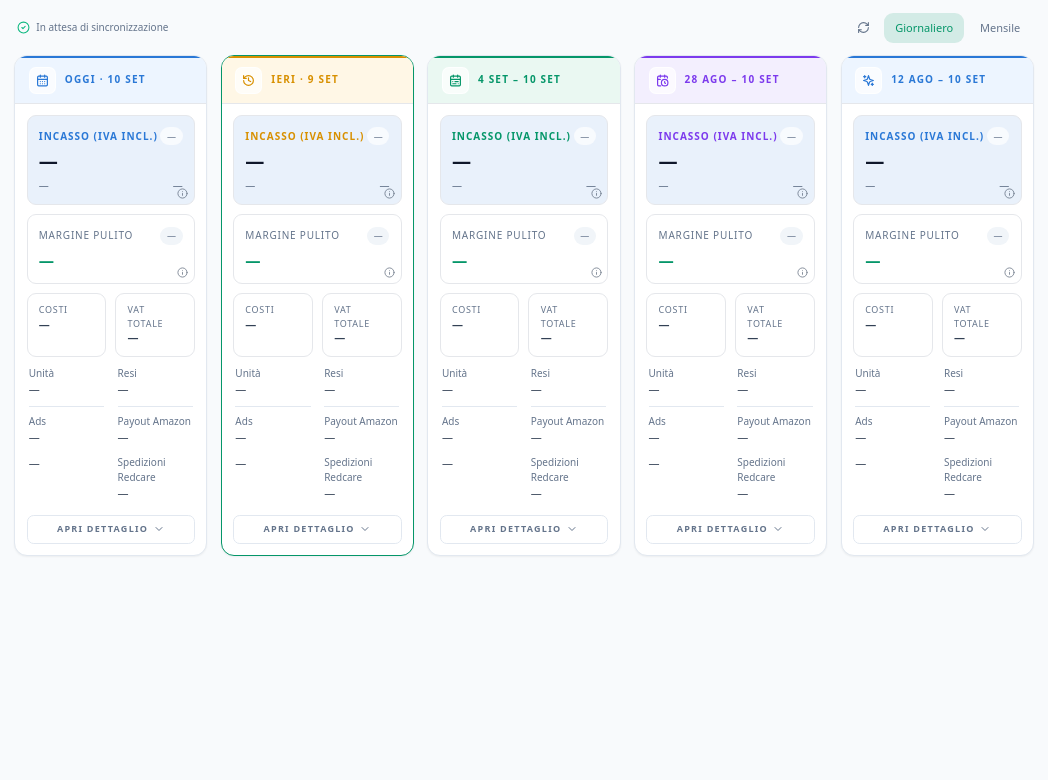
Test: PeriodTiles › monthly set — Proiezione mese (forecast) and always-on per-tile comparison › compares the forecast against last month's real total, even when compareMode is 'none'
The width and height of the screenshot is (1048, 780).
Click the button "Mensile".
click(1000, 28)  # box [969,13,1032,43]
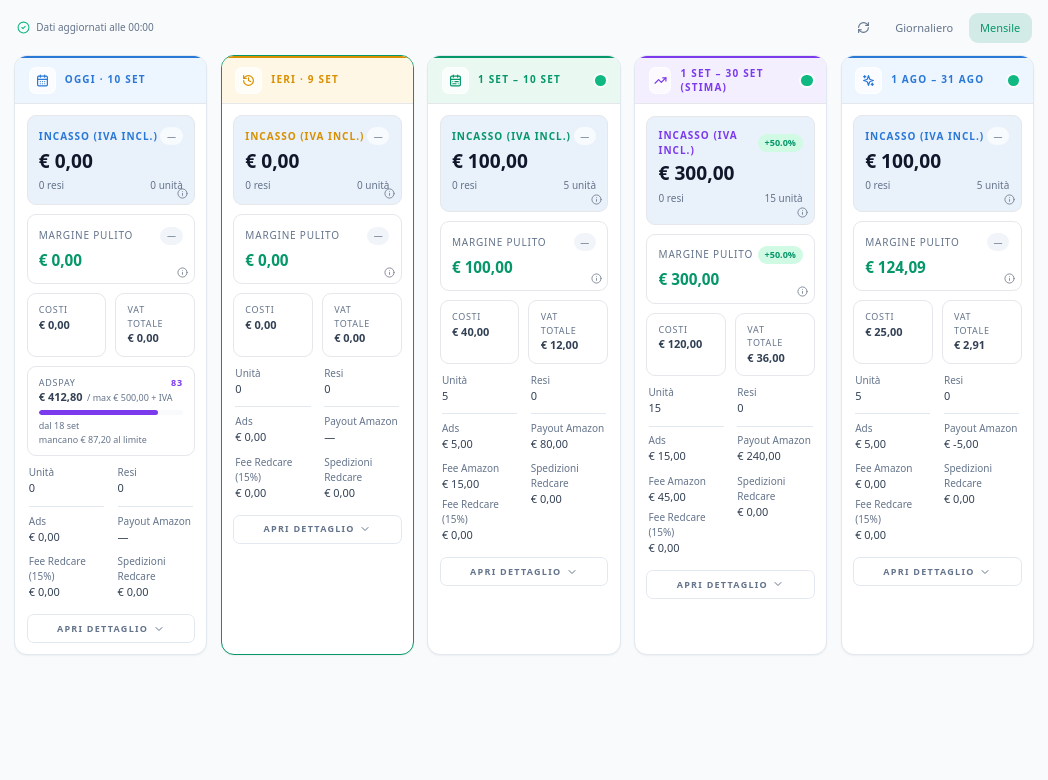
Result: the button with aria-label "proiezione mese" is shown at [634,55,827,655]
Result: the 1st text "+50.0%" is shown at [758,134,803,152]
